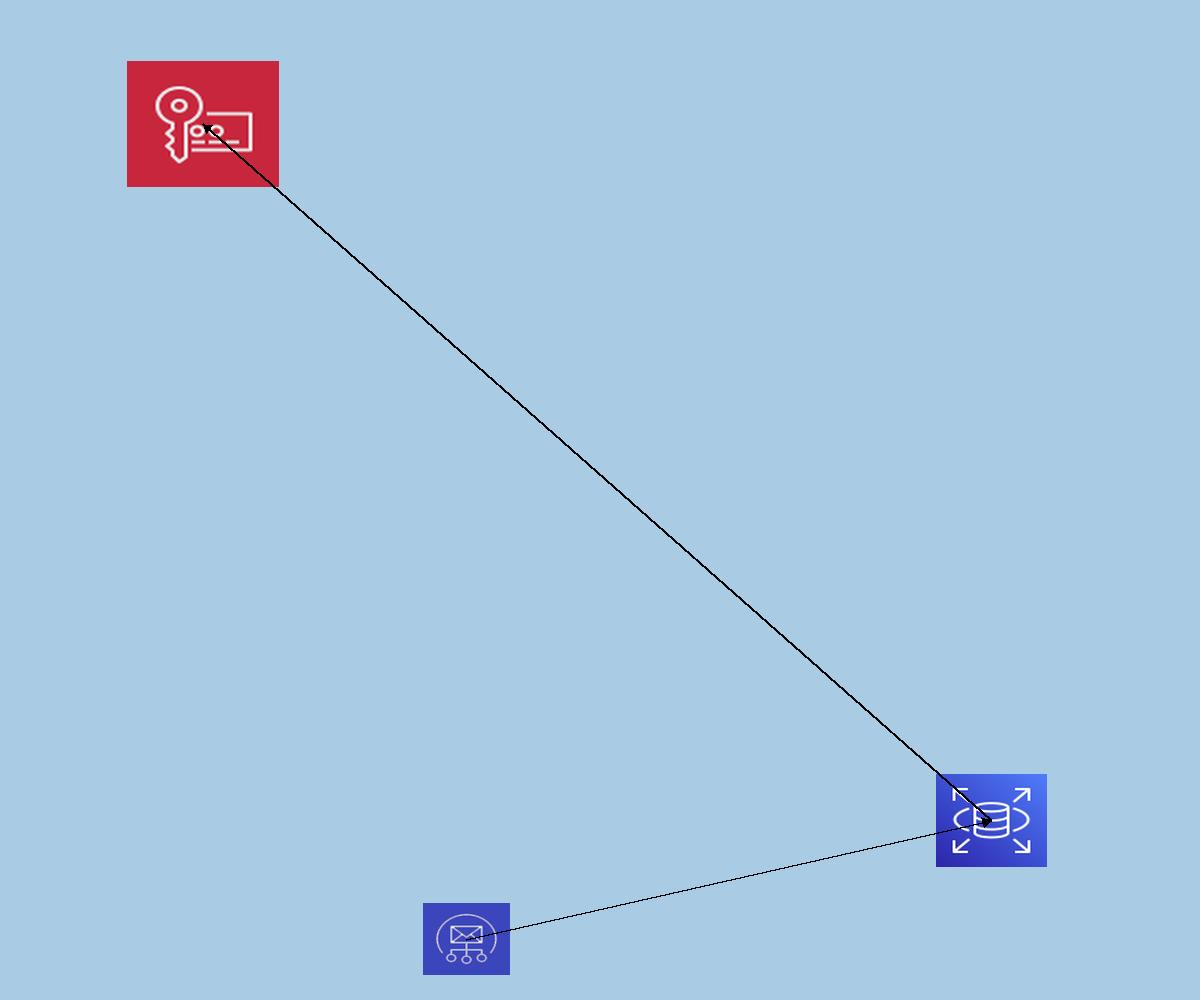AWS-Key-Management-Service: (127, 61, 279, 187)
AWS-RDS: (936, 774, 1047, 867)
AWS-Simple-Email-Service: (423, 903, 510, 975)
